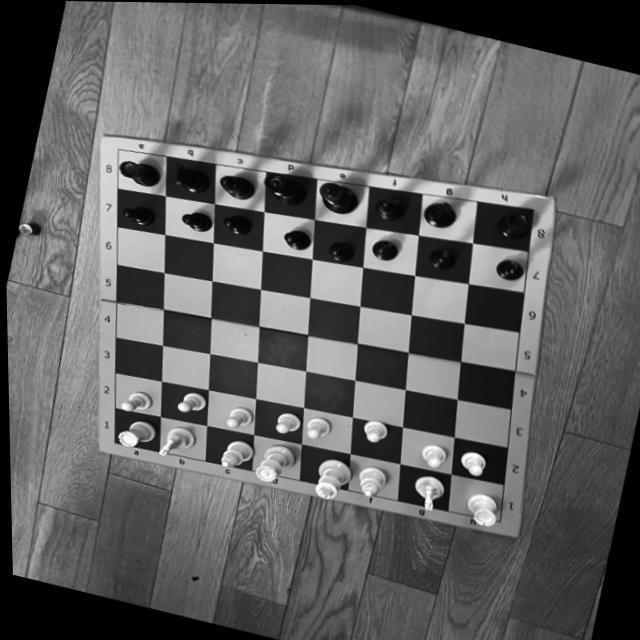Chessboard-Corners: (520, 203, 544, 218), (489, 512, 508, 529), (107, 143, 128, 158), (104, 435, 122, 449)
